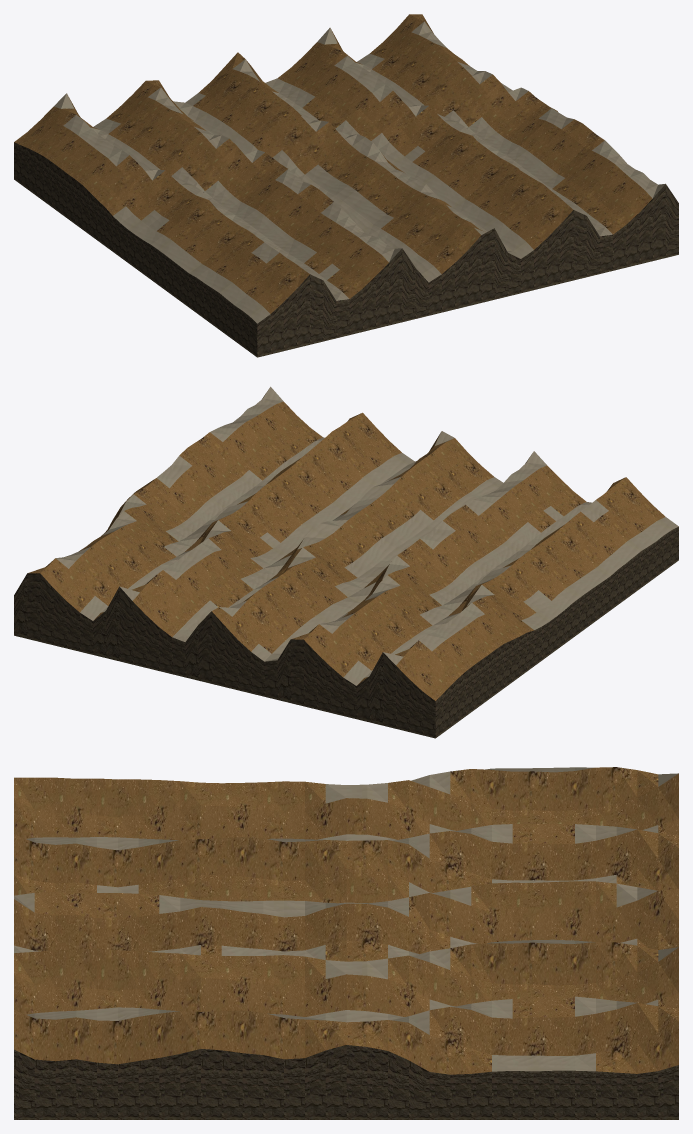
File: dune_01.glb
3 renders of one model, top to bottom at view 1: azimuth 30°, elevation 25°; view 2: azimuth 150°, elevation 25°; view 3: azimuth 270°, elevation 25°, orthographic. The views are drawn at different scales.
Parts seen in each view (by area): view 1: dune_01; view 2: dune_01; view 3: dune_01.
Part boxes in pixels (left/top/right/bottom): dune_01: left=14, top=14, right=678, bottom=357; dune_01: left=14, top=386, right=678, bottom=738; dune_01: left=14, top=767, right=678, bottom=1119.
Bounding box in the file's own units: 16 × 2.72 × 16.
Materials: 3 (3 with a texture image).
